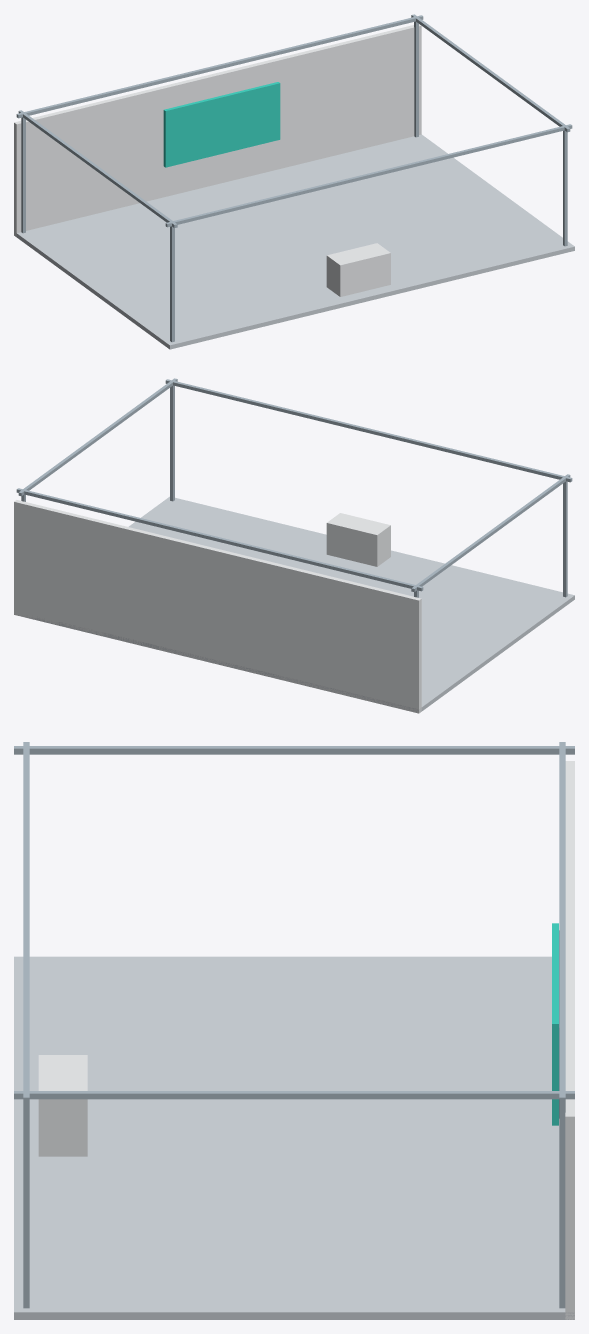
3 renders of one model, top to bottom at view 1: azimuth 30°, elevation 25°; view 2: azimuth 150°, elevation 25°; view 3: azimuth 270°, elevation 25°, orthographic. The views are drawn at different scales.
Visible parts, largest first — view 1: Exhibition Booth Concept; view 2: Exhibition Booth Concept; view 3: Exhibition Booth Concept.
Boxes of the visible parts, bbox=[...] form: Exhibition Booth Concept: bbox=[14, 14, 574, 349]; Exhibition Booth Concept: bbox=[14, 378, 574, 713]; Exhibition Booth Concept: bbox=[14, 742, 574, 1319].
Size of the model in its own units: 12 by 3.49 by 8.
